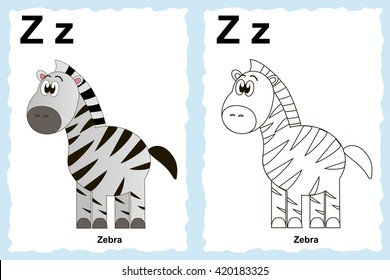animal: (24, 58, 179, 231), (220, 57, 373, 231)
